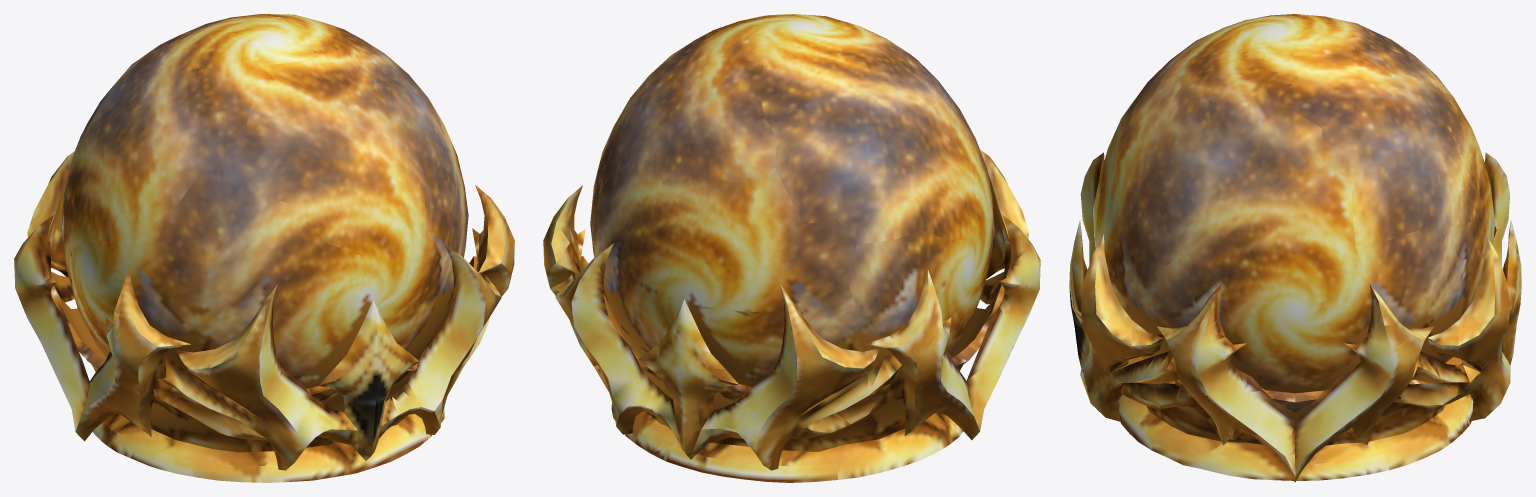
File: item_maw_craft_orb_of_creation.glb
3 renders of one model, left to right at view 1: azimuth 30°, elevation 25°; view 2: azimuth 150°, elevation 25°; view 3: azimuth 270°, elevation 25°, orthographic.
Parts seen in each view (by area): view 1: maw_orb_of_creation; view 2: maw_orb_of_creation; view 3: maw_orb_of_creation.
Boxes of the visible parts, <box> form: maw_orb_of_creation: <box>14,14,514,482</box>; maw_orb_of_creation: <box>543,14,1040,482</box>; maw_orb_of_creation: <box>1069,14,1521,482</box>.
Size of the model in its own units: 1 by 0.9892 by 0.9874.
Materials: 1 (1 with a texture image).
